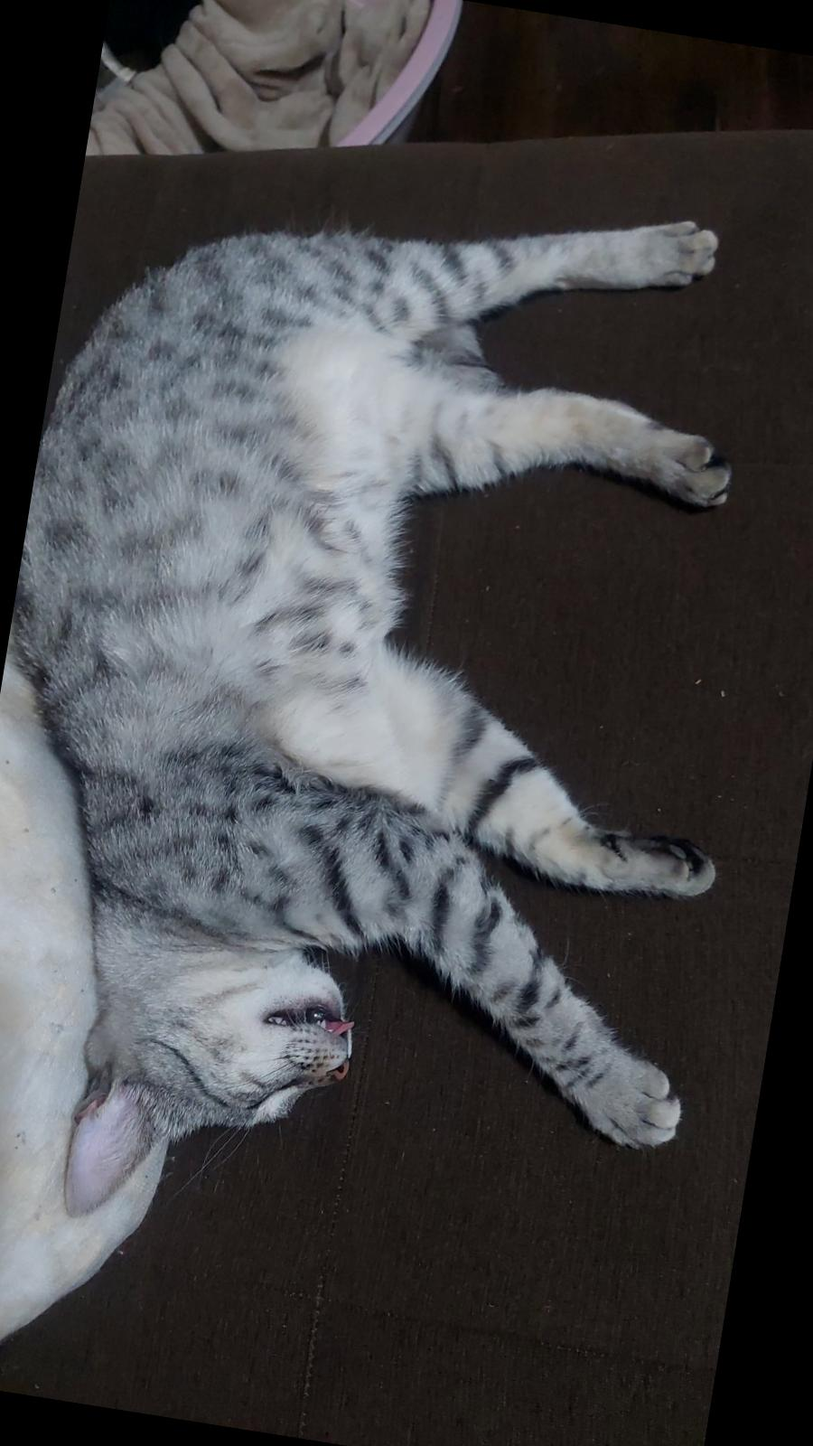macka: (0, 119, 813, 1311)
